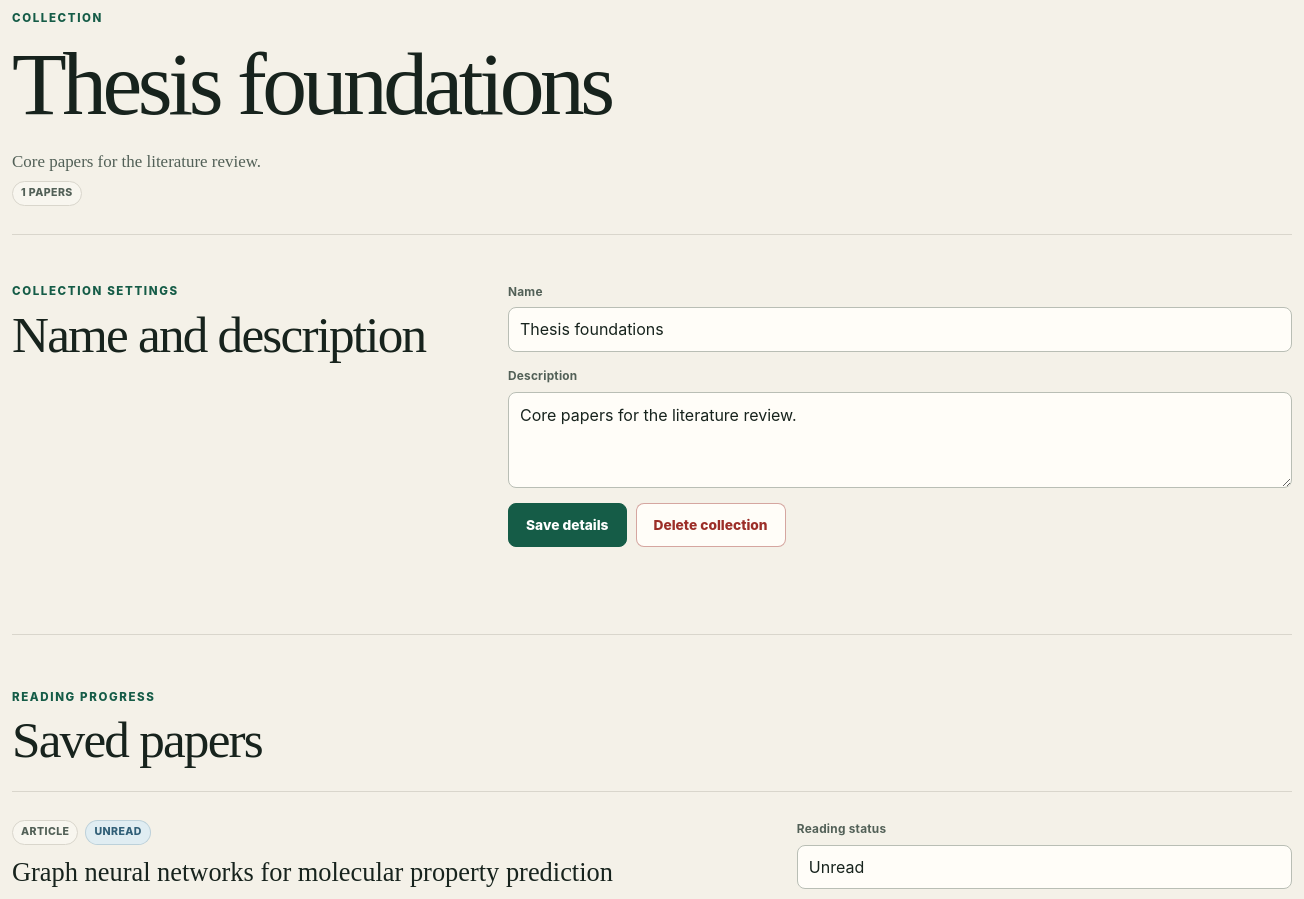
it: CollectionManager › does not delete the server collection when local cleanup fails
Click the button "Delete collection". click: [711, 525]
box: [636,503,786,547]
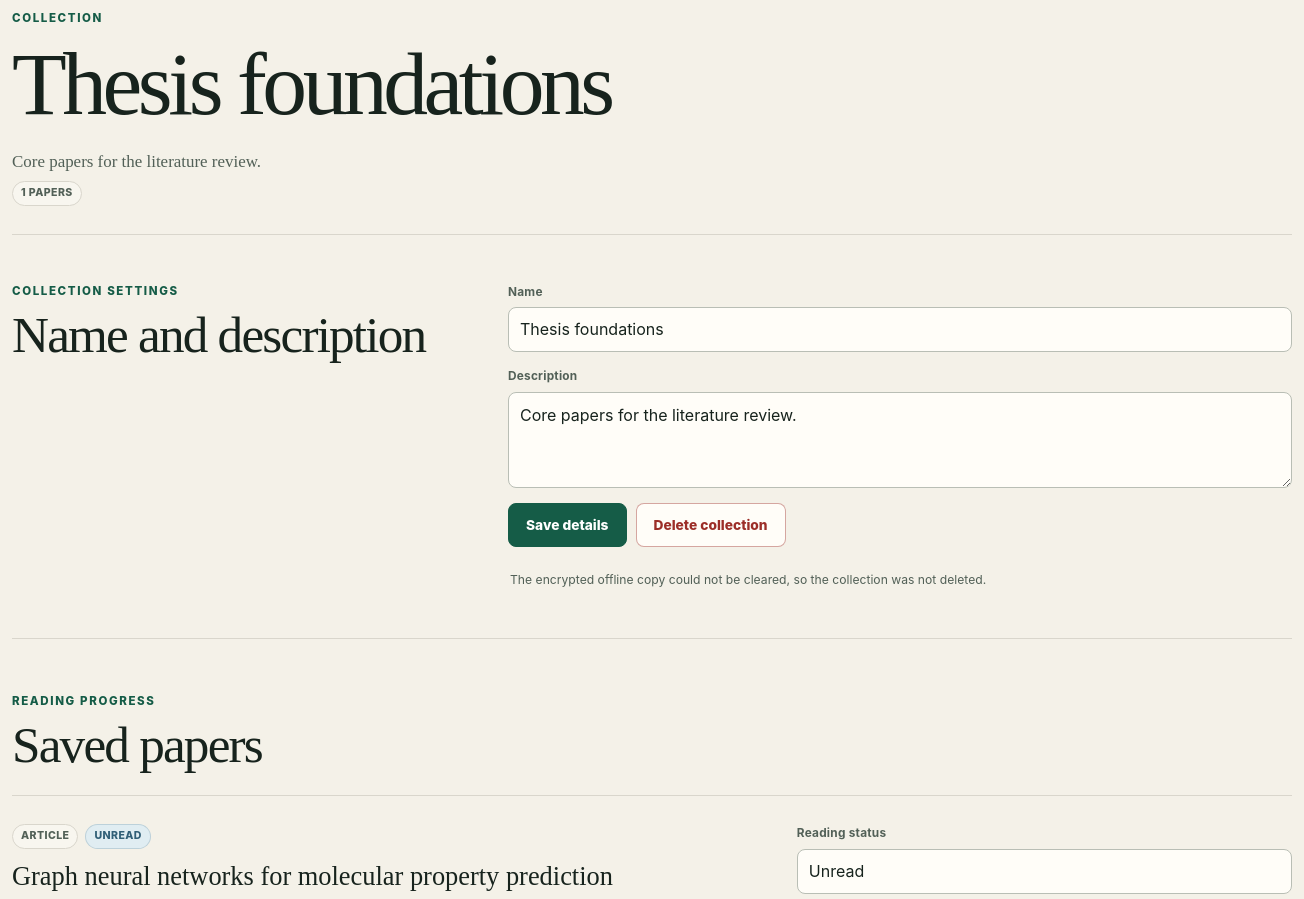
Expected: the text "The encrypted offline copy could not be cleared, so the collection was not deleted." is shown, [510,572,986,587]
